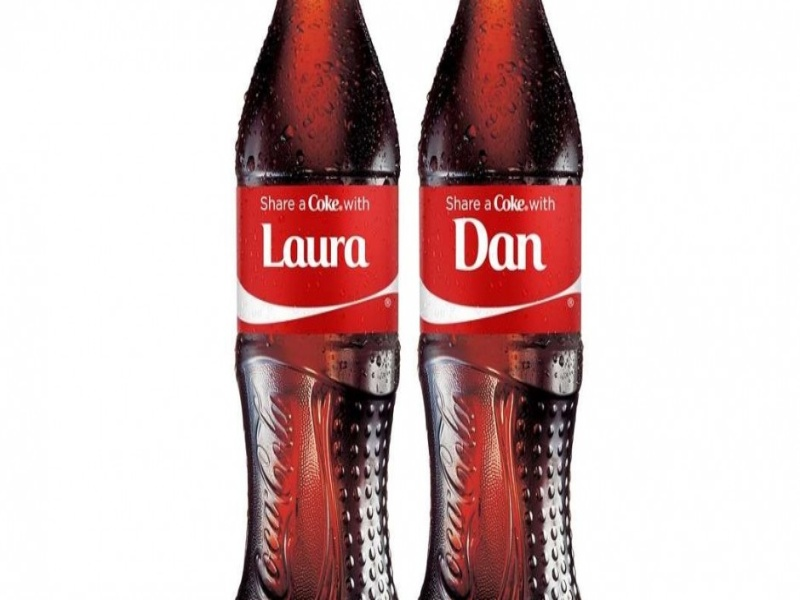Plastic bottle: (414, 1, 639, 592), (200, 4, 419, 597)
